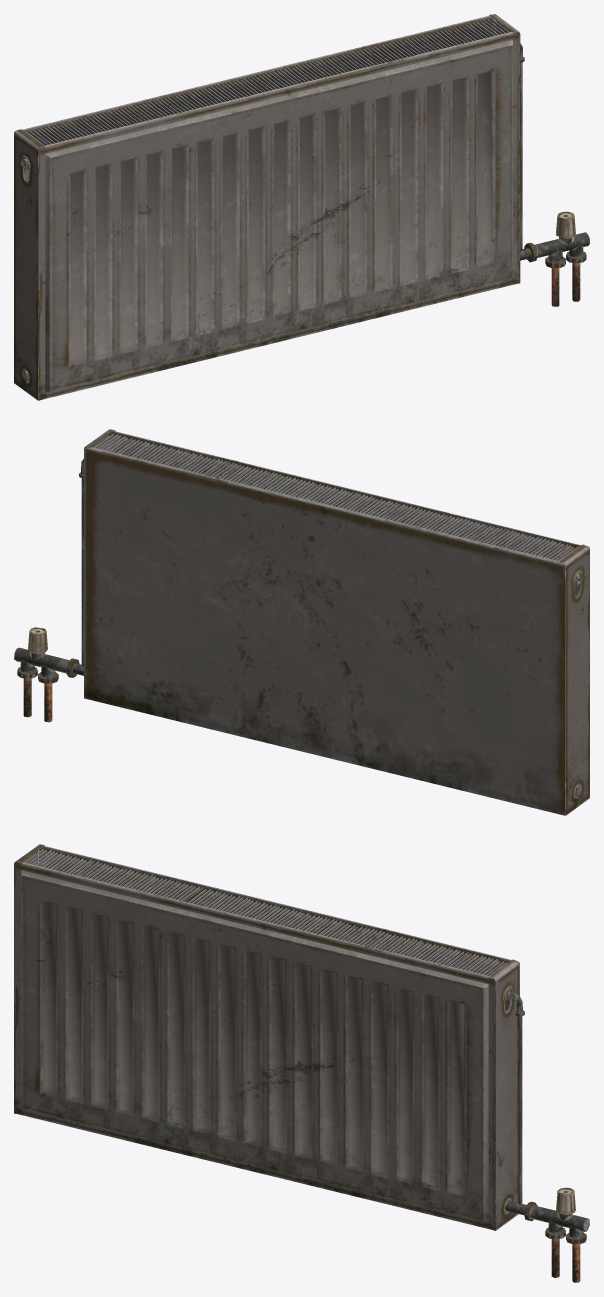
File: radiator_panel.glb
The picture shows the model from 3 angles, top to bottom: view 1: azimuth 30°, elevation 25°; view 2: azimuth 150°, elevation 25°; view 3: azimuth 330°, elevation 25°; orthographic projection.
Parts seen in each view (by area): view 1: radiator_radiator_0; view 2: radiator_radiator_0; view 3: radiator_radiator_0.
Boxes of the visible parts, <box> form: radiator_radiator_0: <box>14,14,589,400</box>; radiator_radiator_0: <box>14,429,589,815</box>; radiator_radiator_0: <box>14,844,589,1282</box>.
Size of the model in its own units: 0.9981 by 0.5005 by 0.0818.
Materials: 1 (1 with a texture image).
